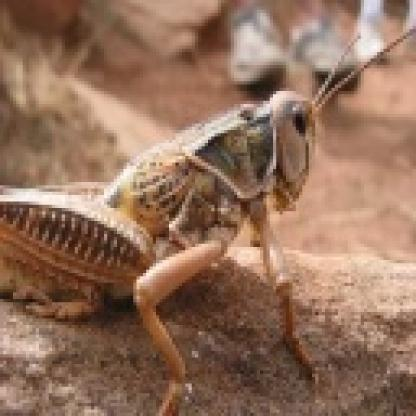grasshopper: (0, 26, 412, 385)
